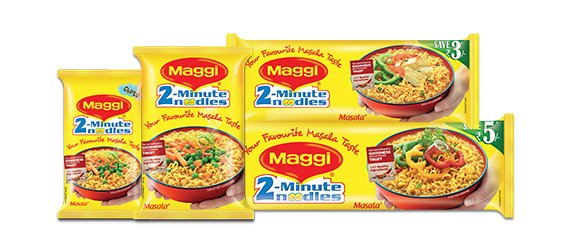maggi: (131, 46, 252, 219), (54, 66, 146, 221)
